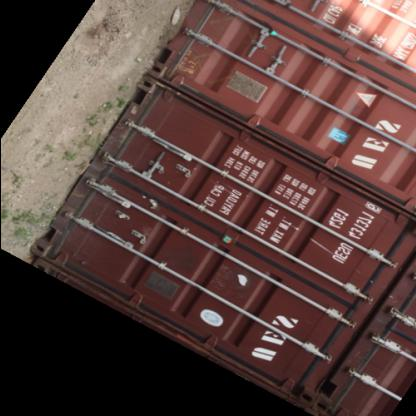Damage: (77, 100, 175, 218), (163, 24, 227, 90)
